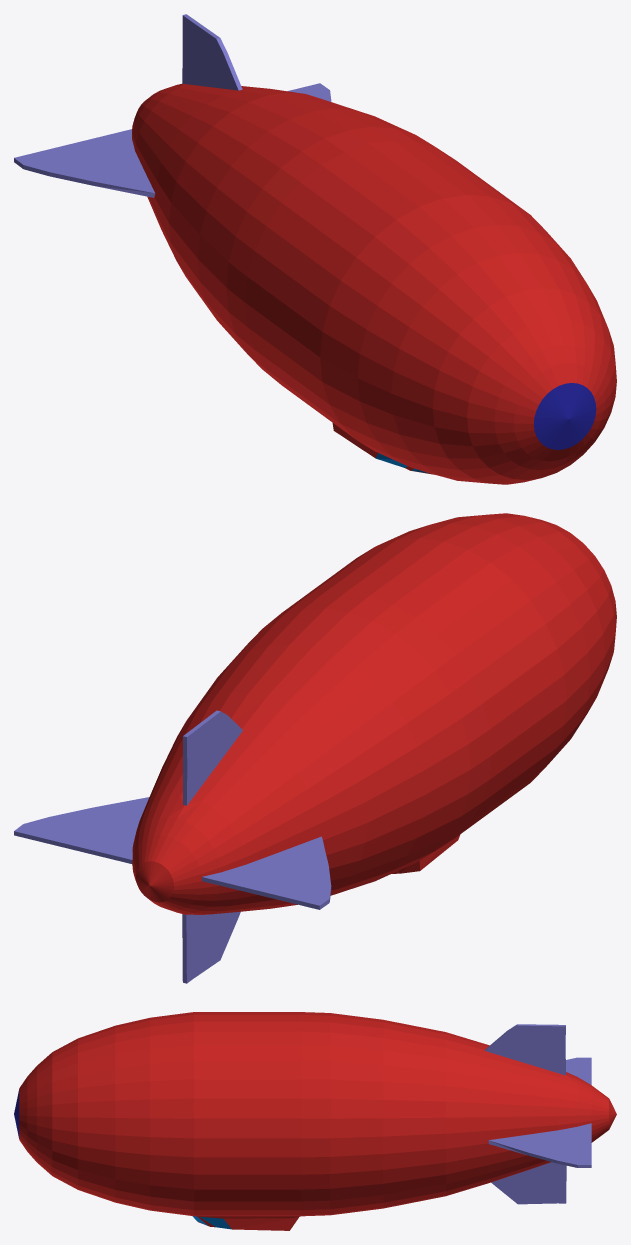
File: blimp.obj
3 views of the same model, one above another, from view 1: azimuth 30°, elevation 25°; view 2: azimuth 150°, elevation 25°; view 3: azimuth 270°, elevation 25° (orthographic). The views are drawn at different scales.
Size of the model in its own units: 3.77 by 3.33 by 8.95.
